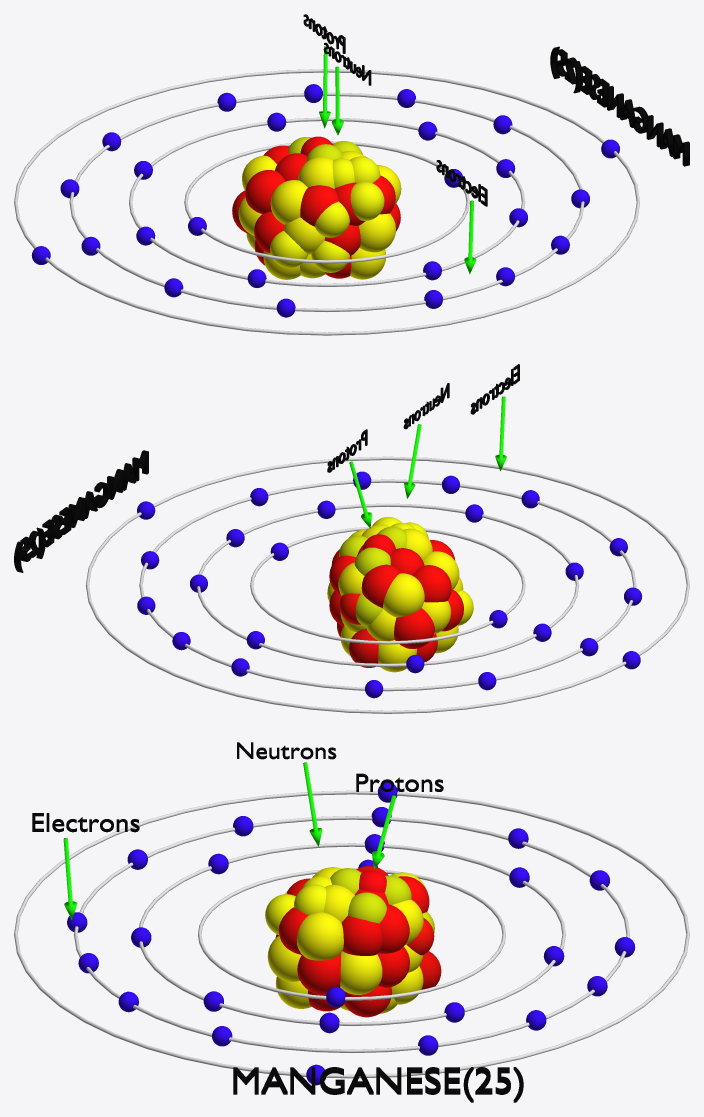
Rendered from Manganese Atomic Model.gltf.
The picture shows the model from 3 angles, top to bottom: view 1: azimuth 30°, elevation 25°; view 2: azimuth 150°, elevation 25°; view 3: azimuth 270°, elevation 25°; orthographic projection. The views are drawn at different scales.
Parts seen in each view (by area): view 1: Sphere.038, Torus.003, Torus.002, Text.003, Torus.001, Torus, Sphere.001, Sphere.002, Sphere.004, Sphere.003, Text, Sphere.031 (+3 smaller); view 2: Sphere.038, Torus.003, Torus.002, Text.003, Torus.001, Torus, Text; view 3: Sphere.038, Torus.003, Torus.002, Text.003, Torus.001, Torus, Text, Sphere.031, Text.001, Sphere.001, Text.002.
Boxes of the visible parts, left/top/right/bottom form: Sphere.038: left=232, top=137, right=401, bottom=279; Torus.003: left=14, top=69, right=639, bottom=335; Torus.002: left=69, top=92, right=584, bottom=311; Text.003: left=550, top=46, right=689, bottom=166; Torus.001: left=129, top=117, right=525, bottom=286; Torus: left=184, top=141, right=469, bottom=263; Sphere.001: left=350, top=181, right=384, bottom=220; Sphere.002: left=314, top=201, right=349, bottom=237; Sphere.004: left=270, top=231, right=307, bottom=268; Sphere.003: left=311, top=240, right=349, bottom=272; Text: left=436, top=160, right=487, bottom=206; Sphere.031: left=350, top=156, right=380, bottom=182; Sphere.038: left=327, top=524, right=463, bottom=672; Torus.003: left=85, top=456, right=689, bottom=713; Torus.002: left=139, top=479, right=636, bottom=691; Text.003: left=14, top=450, right=148, bottom=572; Torus.001: left=197, top=503, right=579, bottom=666; Torus: left=250, top=526, right=525, bottom=644; Text: left=470, top=364, right=519, bottom=414; Sphere.038: left=267, top=866, right=441, bottom=1017; Torus.003: left=14, top=790, right=689, bottom=1078; Torus.002: left=74, top=816, right=629, bottom=1052; Text.003: left=233, top=1067, right=523, bottom=1102; Torus.001: left=139, top=843, right=565, bottom=1025; Torus: left=198, top=868, right=505, bottom=1000; Text: left=32, top=813, right=139, bottom=832; Sphere.031: left=293, top=884, right=326, bottom=915; Text.001: left=237, top=742, right=336, bottom=759; Sphere.001: left=265, top=894, right=295, bottom=934; Text.002: left=356, top=773, right=443, bottom=791.
Bounding box in the file's own units: 8.77 × 3.45 × 8.13.
